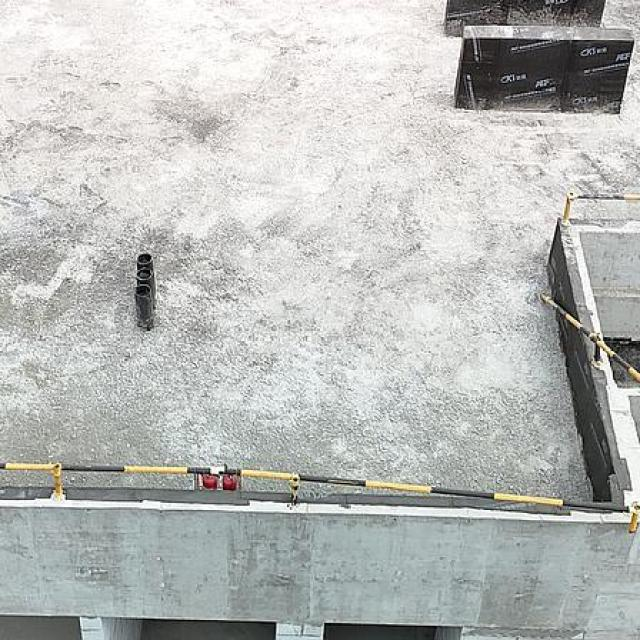Guardrail: (0, 459, 640, 535), (540, 291, 640, 384), (561, 190, 640, 223)
